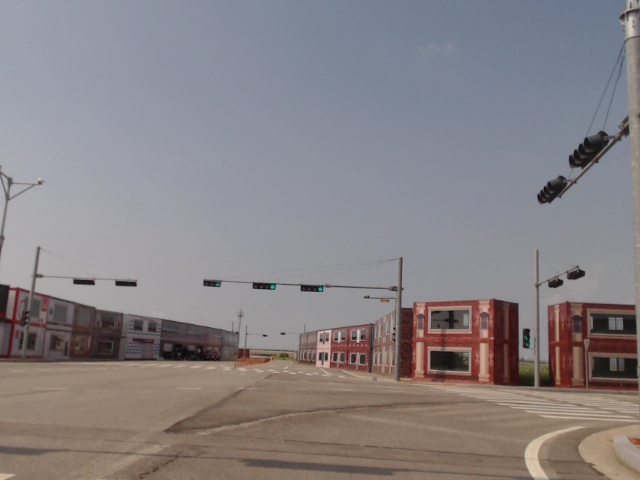straight_green_4: (300, 284, 325, 293), (252, 282, 275, 290)
